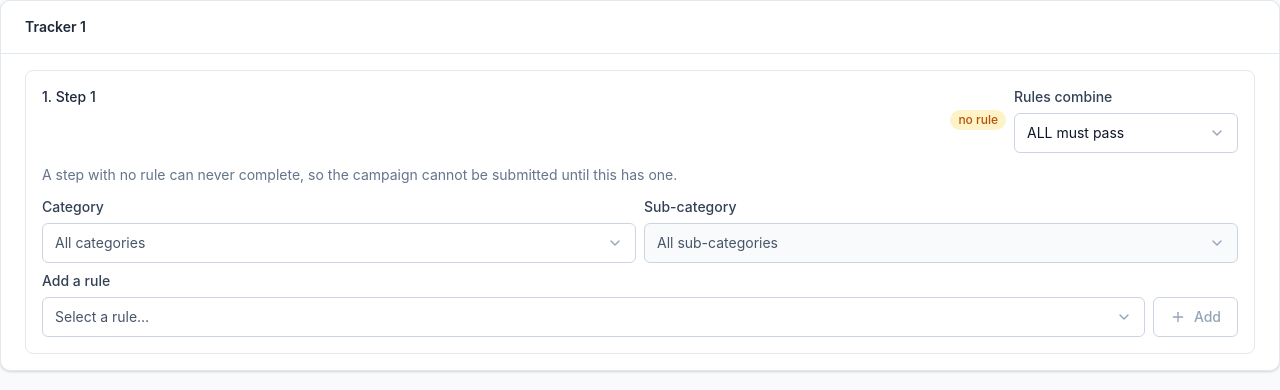
Test case: ComponentRulesStep — Add-a-rule category/sub-category filter (T-112) › TC-1: every option carries categoryId/subCategoryId (schema-level, exercised through the filter)
What coordinates should you click on to do the following:
click the dropdown named "category"
I would click on:
 (100, 242)
Its box is [42,223,636,263].
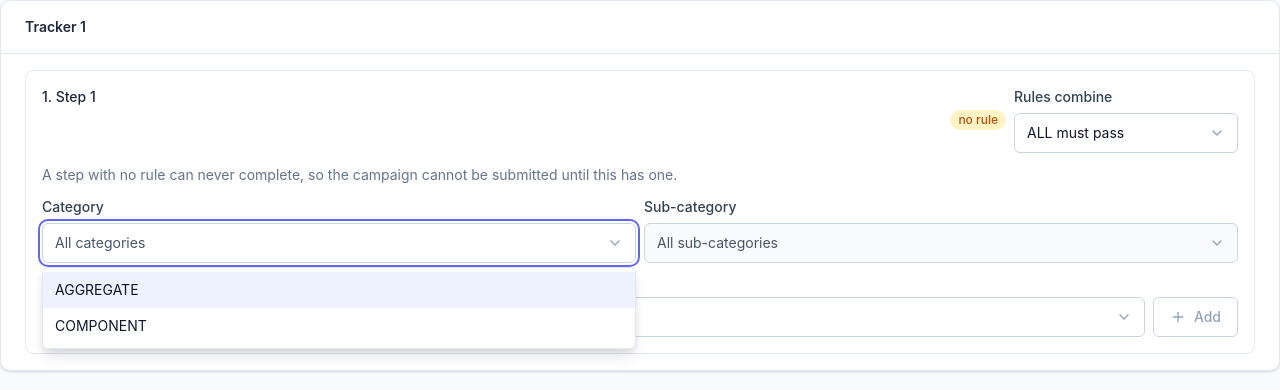
Expected: the option "COMPONENT" is shown, [55,317,147,334]
Expected: the option "AGGREGATE" is shown, [43,272,635,308]
